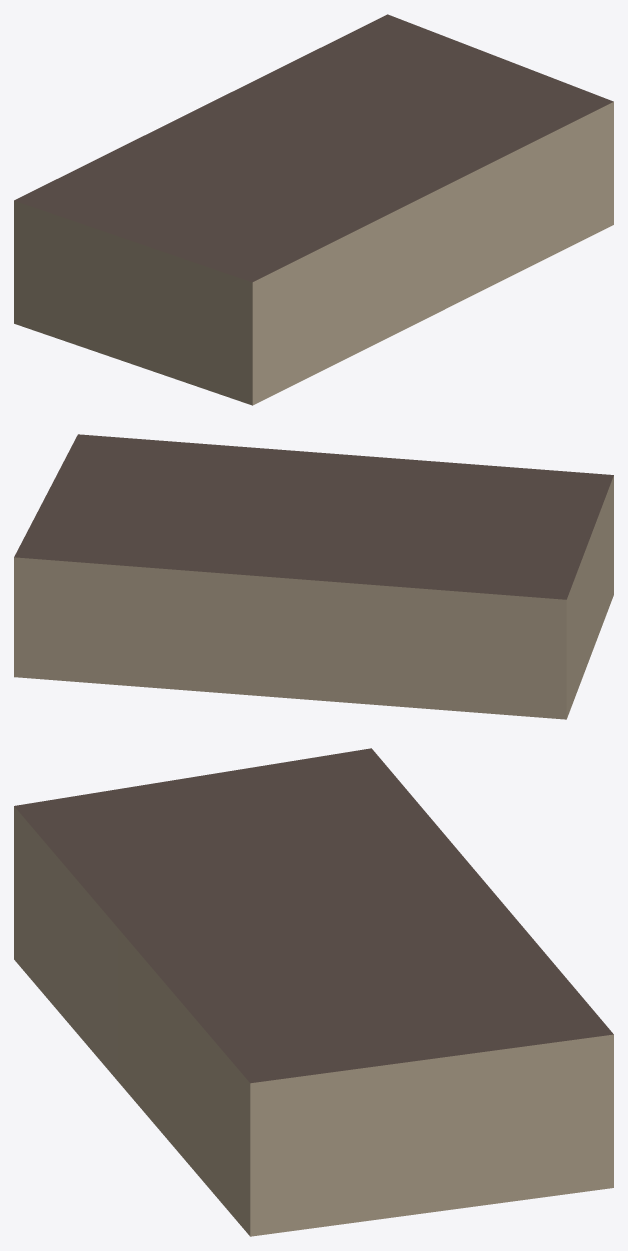
The picture shows the model from 3 angles, top to bottom: view 1: azimuth 30°, elevation 25°; view 2: azimuth 150°, elevation 25°; view 3: azimuth 270°, elevation 25°; orthographic projection. The views are drawn at different scales.
Visible parts, largest first — view 1: HP-w1070643698; view 2: HP-w1070643698; view 3: HP-w1070643698.
Part boxes in pixels (x1,y1,x2,y2): HP-w1070643698: [14, 14, 613, 405]; HP-w1070643698: [14, 434, 613, 719]; HP-w1070643698: [14, 748, 613, 1236].
Bounding box in the file's own units: 42.14 × 9 × 31.9.
